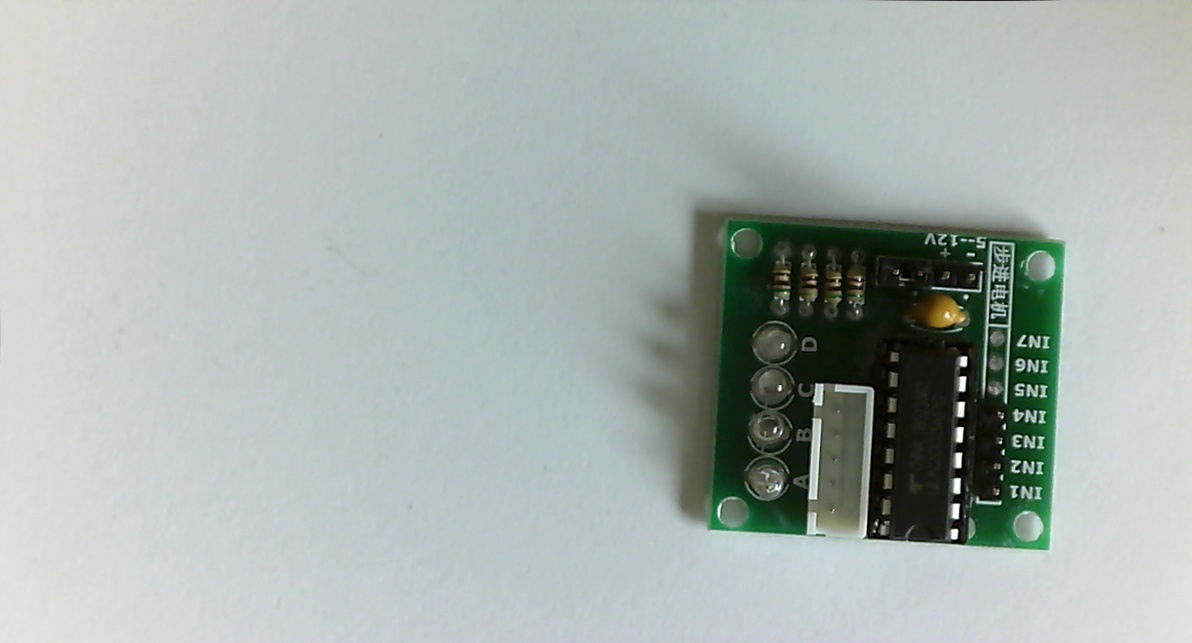uln2003: (705, 207, 1061, 566)
